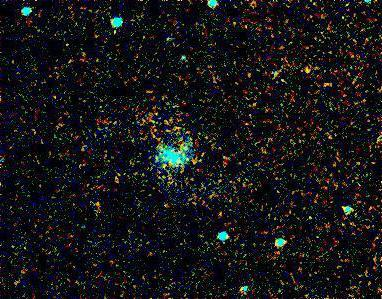star: (295, 52, 325, 82)
